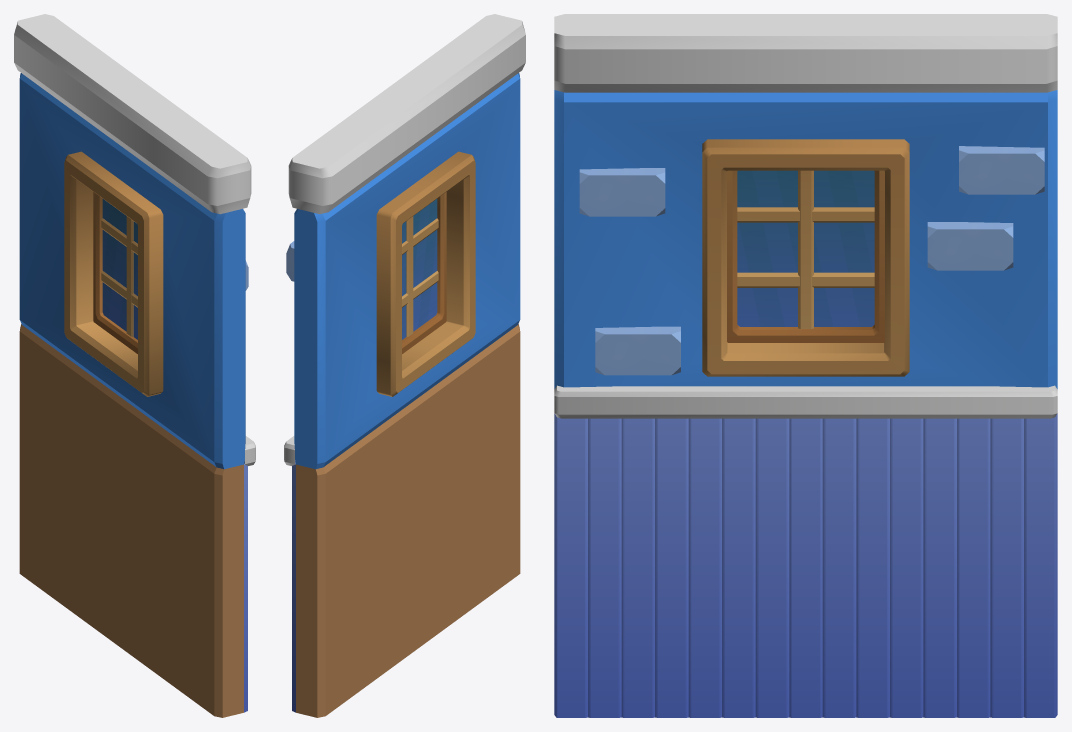
The model's file is Wall_D_18.glb.
3 renders of one model, left to right at view 1: azimuth 30°, elevation 25°; view 2: azimuth 150°, elevation 25°; view 3: azimuth 270°, elevation 25°, orthographic. The views are drawn at different scales.
Parts seen in each view (by area): view 1: Wall_D_18; view 2: Wall_D_18; view 3: Wall_D_18.
Boxes of the visible parts, <box> form: Wall_D_18: <box>14,14,255,717</box>; Wall_D_18: <box>284,14,525,717</box>; Wall_D_18: <box>554,14,1057,717</box>.
Bounding box in the file's own units: 0.3277 × 3 × 2.
2 materials, 2 textured.
